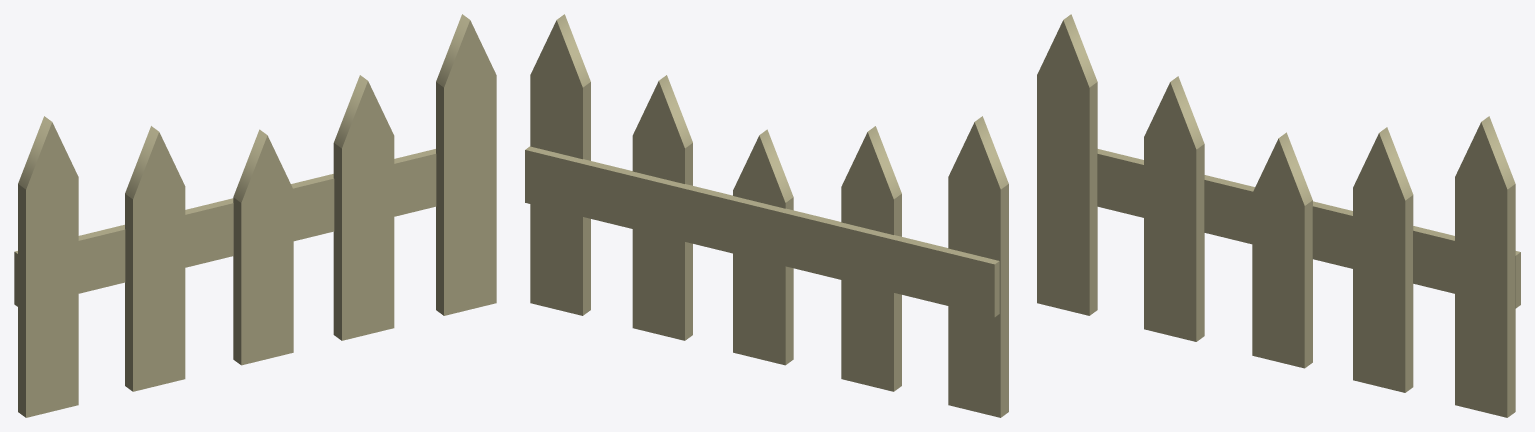
File: fence.fbx
3 renders of one model, left to right at view 1: azimuth 30°, elevation 25°; view 2: azimuth 150°, elevation 25°; view 3: azimuth 330°, elevation 25°, orthographic.
Parts seen in each view (by area): view 1: Fence; view 2: Fence; view 3: Fence.
Boxes of the visible parts, x1=… form: Fence: x1=14, y1=14, x2=496, y2=417; Fence: x1=525, y1=14, x2=1008, y2=417; Fence: x1=1037, y1=14, x2=1520, y2=417.
Size of the model in its own units: 2.9 by 1.7 by 0.1369.
